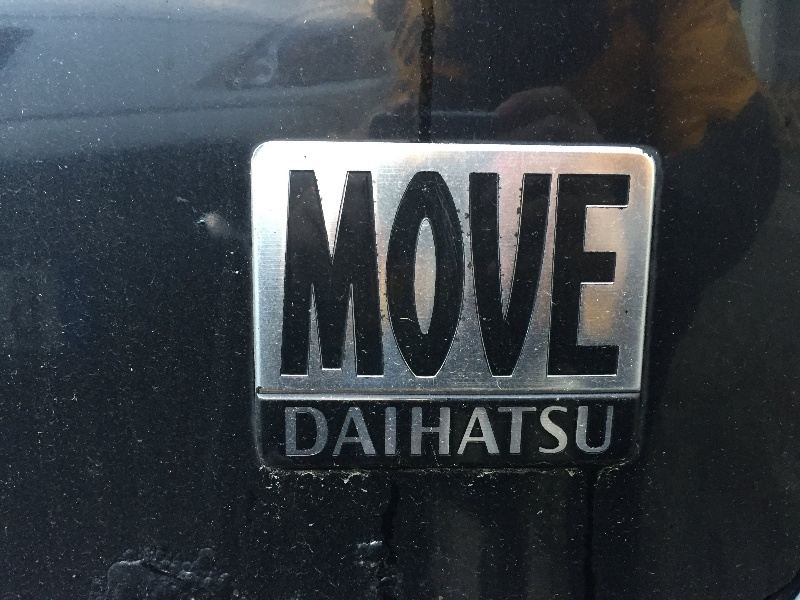text: (289, 169, 304, 380), (305, 169, 320, 380), (321, 169, 336, 380), (337, 169, 352, 380), (353, 169, 368, 380), (369, 169, 384, 380), (385, 169, 400, 380), (401, 169, 416, 380), (417, 169, 432, 380), (433, 169, 448, 380), (449, 169, 464, 380), (465, 169, 480, 380), (481, 169, 496, 380), (497, 169, 512, 380), (513, 169, 528, 380), (529, 169, 544, 380), (545, 169, 560, 380), (561, 169, 576, 380), (577, 169, 592, 380), (593, 169, 608, 380), (609, 169, 624, 380), (625, 169, 633, 380), (289, 406, 304, 459), (305, 406, 320, 459), (321, 406, 336, 459), (337, 406, 352, 459), (353, 406, 368, 459), (369, 406, 384, 459), (385, 406, 400, 459), (401, 406, 416, 459), (417, 406, 432, 459), (433, 406, 448, 459), (449, 406, 464, 459), (465, 406, 480, 459), (481, 406, 496, 459), (497, 406, 512, 459), (513, 406, 528, 459), (529, 406, 544, 459), (545, 406, 560, 459), (561, 406, 576, 459), (577, 406, 592, 459), (593, 406, 608, 459), (609, 406, 616, 459), (284, 406, 288, 459), (287, 169, 288, 380)
